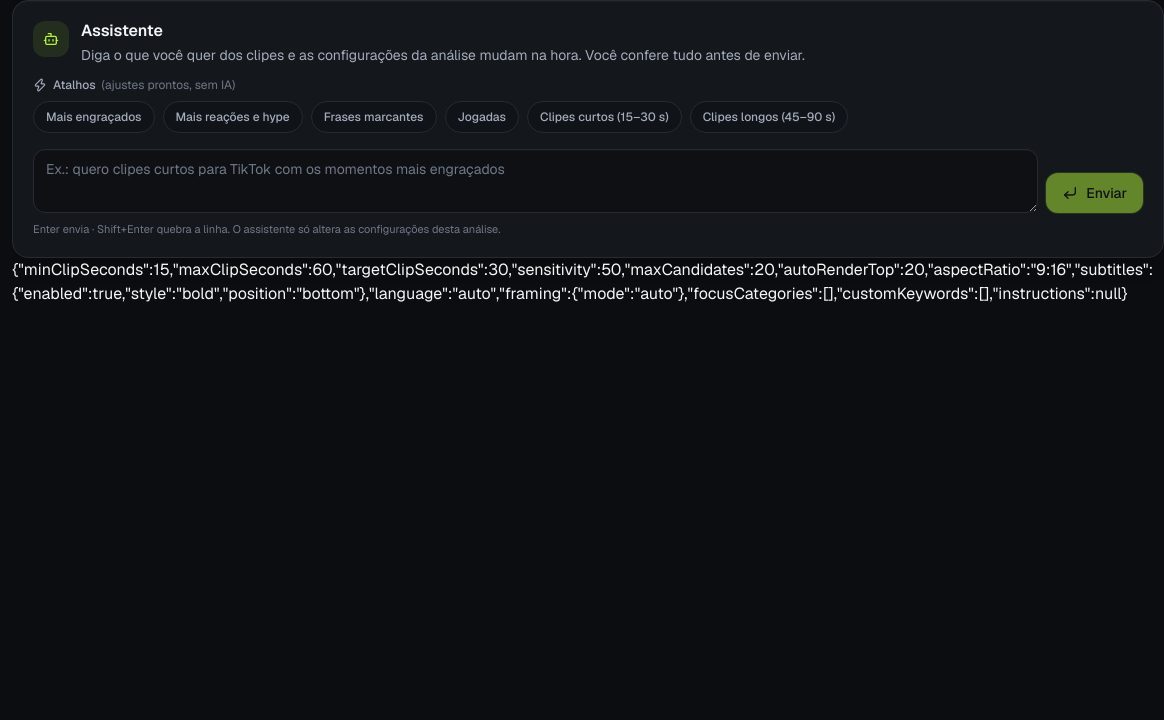
Test: AssistantPanel › marks as undone every change of the reply that the same Desfazer restored
Type "30 momentos, 8 clipes, engraçados" into the text box named "Mensagem para o assistente" at (536, 181), box [33,149,1038,212]
Then press Enter
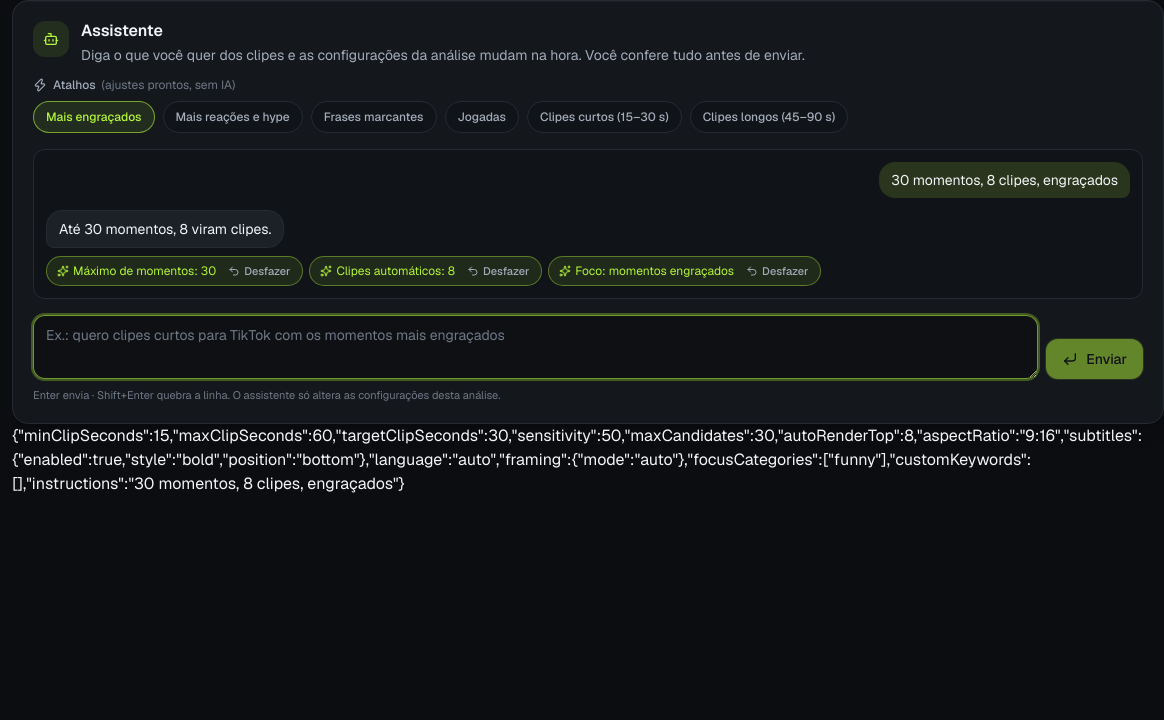
Click the button with aria-label "Desfazer: Clipes automáticos: 8" at (498, 271), box [459,259,537,283]
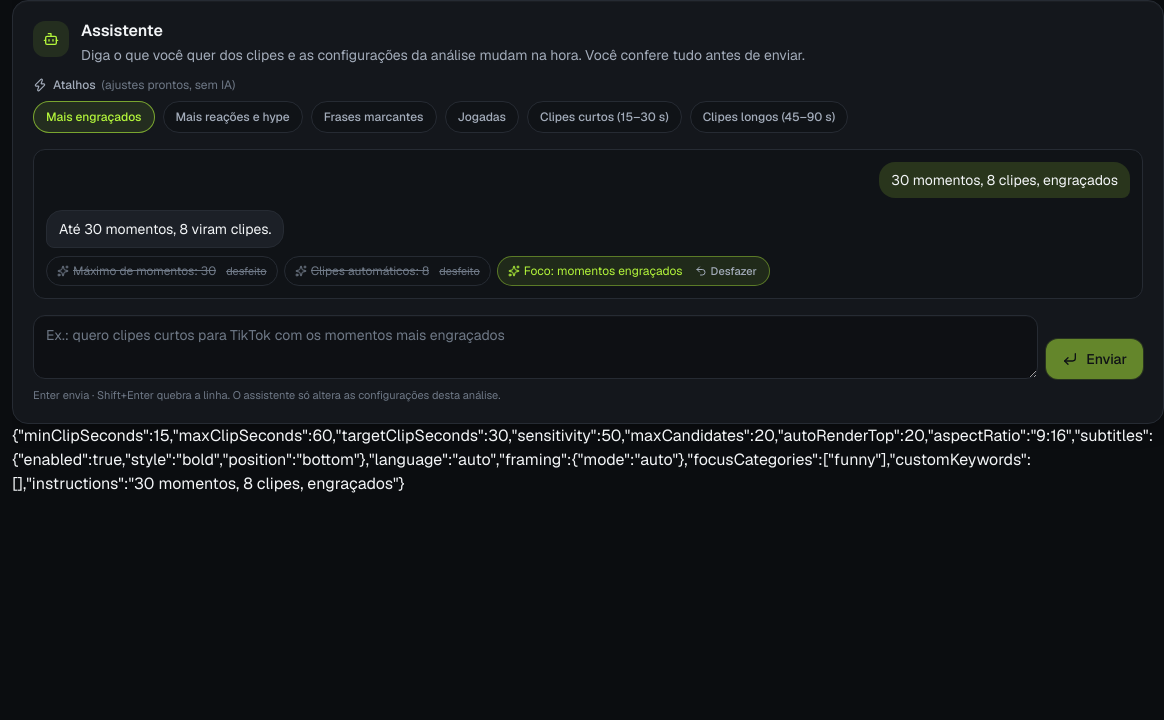
Expected: the button with aria-label "Desfazer: Foco: momentos engraçados" is shown, [687,259,765,283]
Expected: the text "desfeito" is shown 2 times, [226,264,267,278]; [439,264,480,278]
